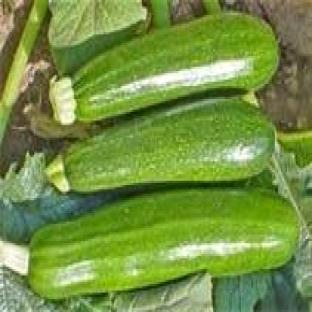Zucchini: (29, 188, 298, 299), (51, 13, 277, 124), (48, 99, 275, 191)
